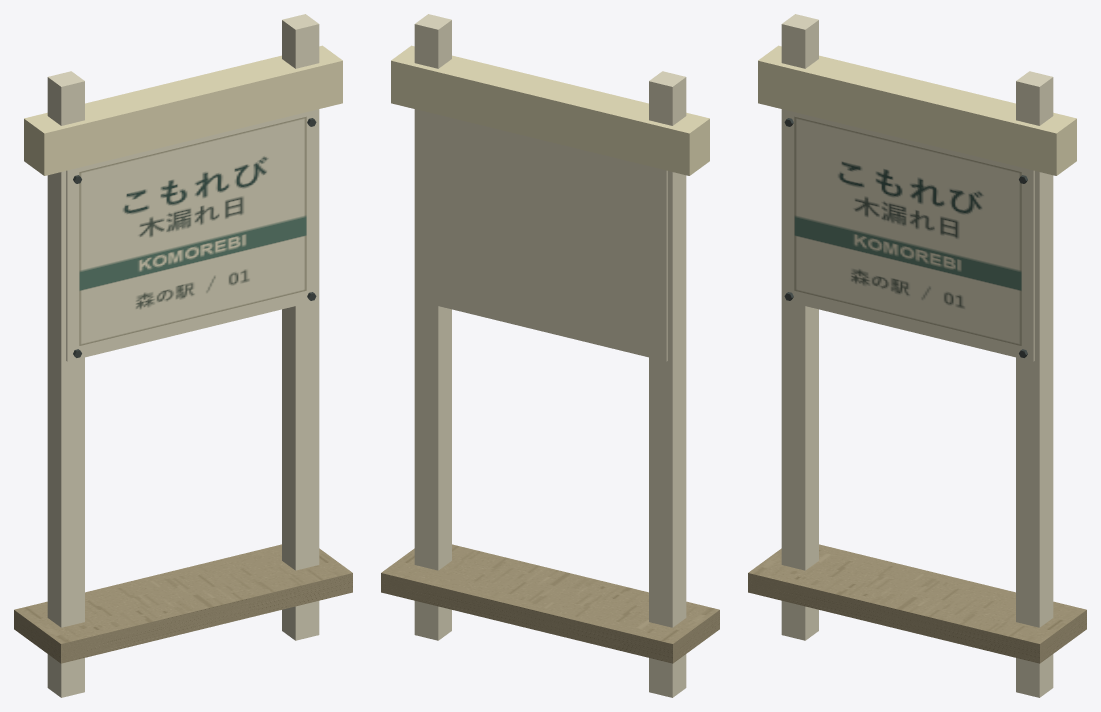
File: Focus_KomorebiStationSign.obj
3 views of the same model, side by side, from view 1: azimuth 30°, elevation 25°; view 2: azimuth 150°, elevation 25°; view 3: azimuth 330°, elevation 25° (orthographic).
Visible parts, largest first — view 1: Focus_KomorebiStationSign; view 2: Focus_KomorebiStationSign; view 3: Focus_KomorebiStationSign.
Boxes of the visible parts, x1=… form: Focus_KomorebiStationSign: x1=14, y1=14, x2=352, y2=697; Focus_KomorebiStationSign: x1=381, y1=14, x2=719, y2=697; Focus_KomorebiStationSign: x1=748, y1=14, x2=1086, y2=697.
Size of the model in its own units: 0.88 by 1.72 by 0.24.
1 material, 1 textured.
